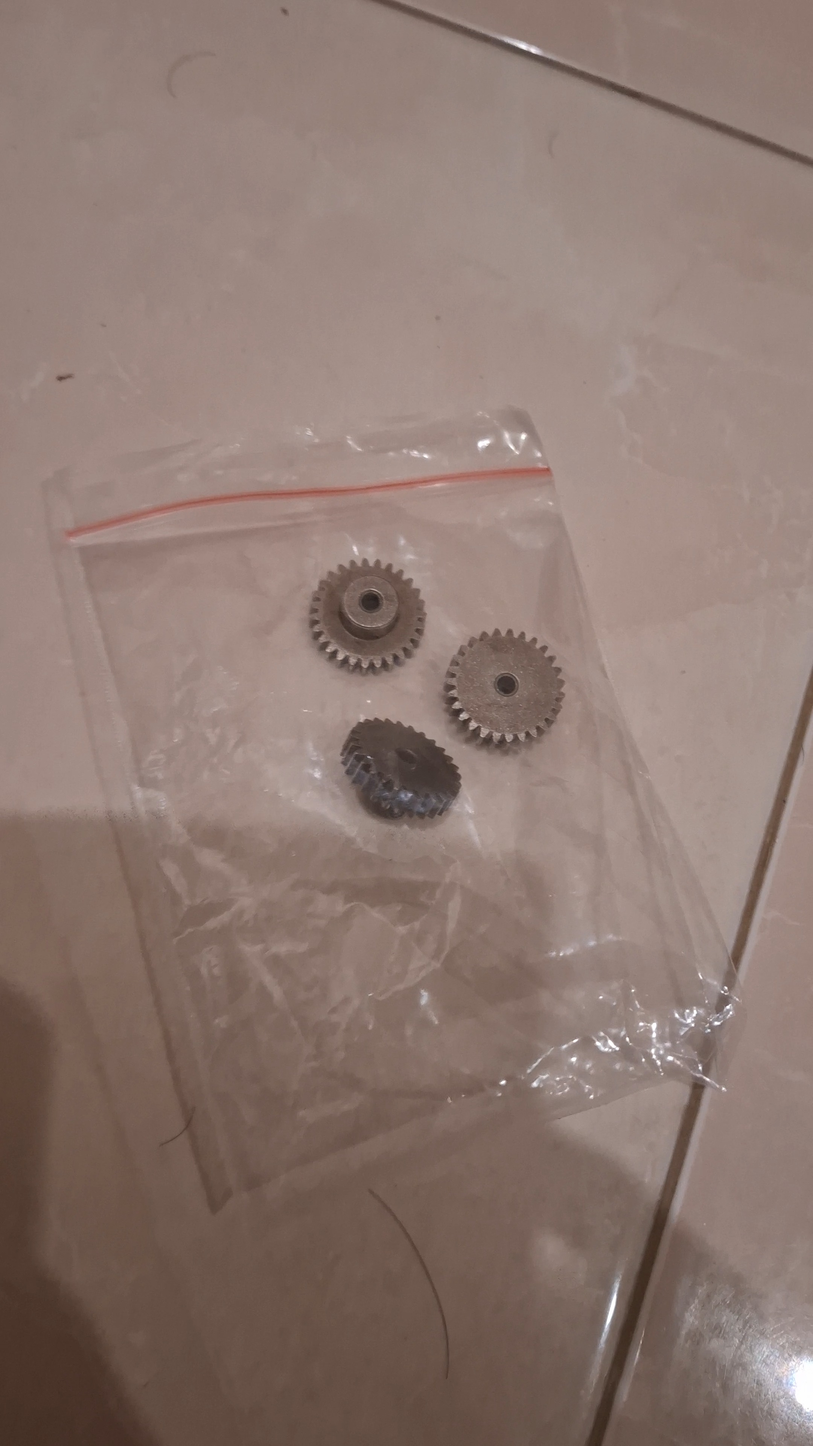spur gear: (441, 627, 567, 748), (307, 556, 429, 671), (337, 717, 461, 822)
